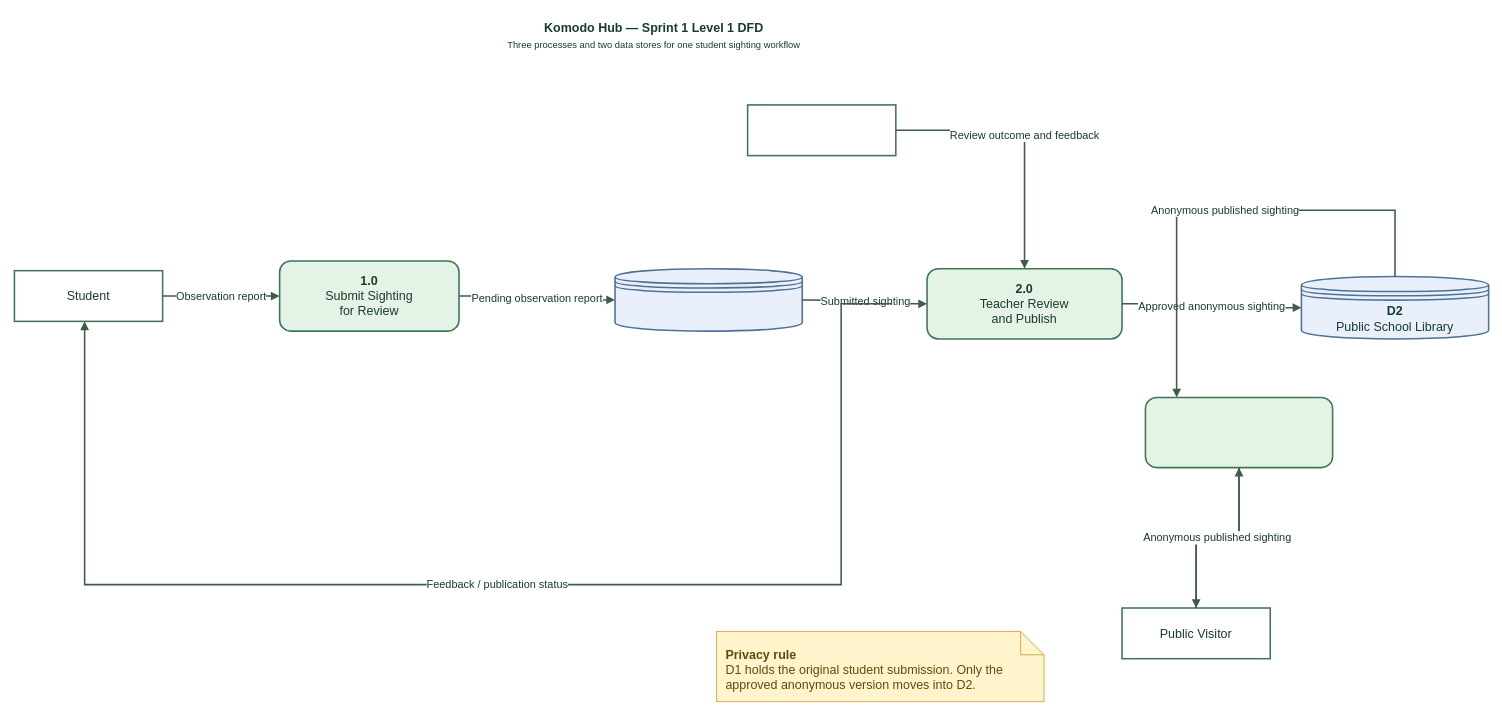
The diagram is 1502 pixels wide and 715 high, and some of its shapes have lost their labels. Each missing label, with the box of its shape:
3.0 Browse Public School Library: (1144, 396, 1333, 468)
D1 Observation Report Store: (614, 268, 803, 332)
Teacher: (746, 104, 896, 156)
